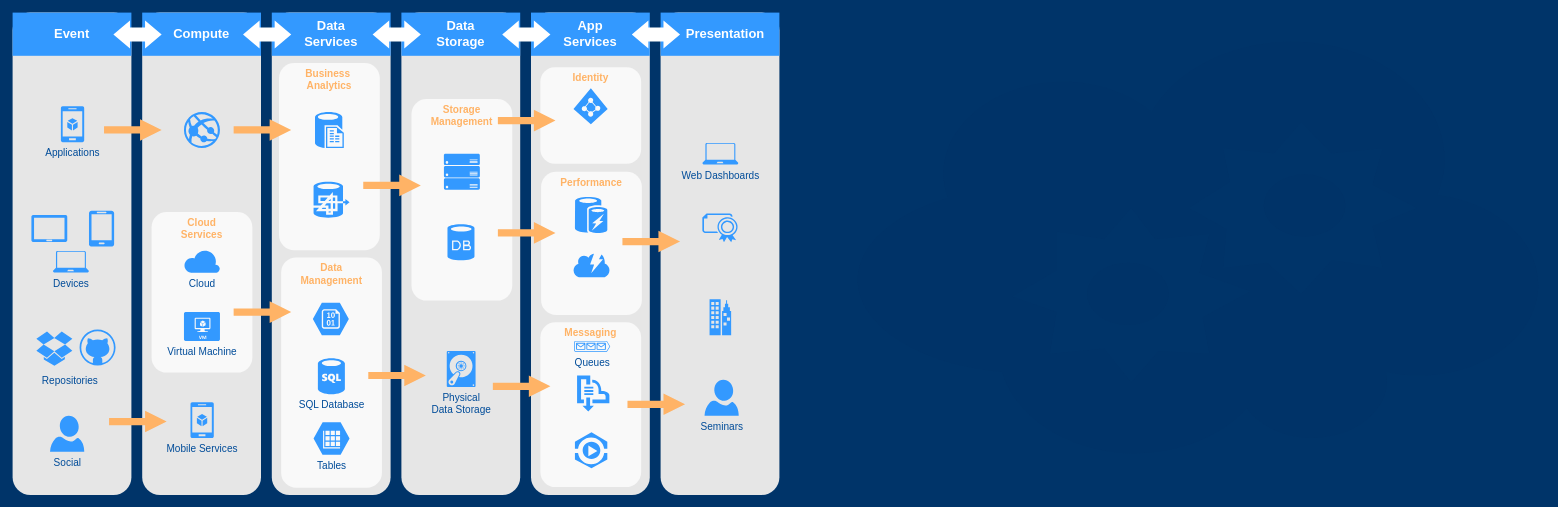
Image size: 1558x507. Some labels were removed from this diagram. The shapes that lost their labels are listed below. From the top down, each one's centre as x and y in pixels, then its label:
point (590, 106): Windows Azure Active Directorry
point (202, 130): Azure Website
point (329, 130): SQL Reporting
point (462, 171): Storage Servers
point (331, 199): HDInsight
point (591, 215): Caching
point (460, 242): Database
point (720, 227): Certificates
point (591, 265): Content Delivery Network
point (330, 318): Blobs
point (720, 317): Enterprise Services
point (593, 393): Service Bus
point (591, 450): Media Services
